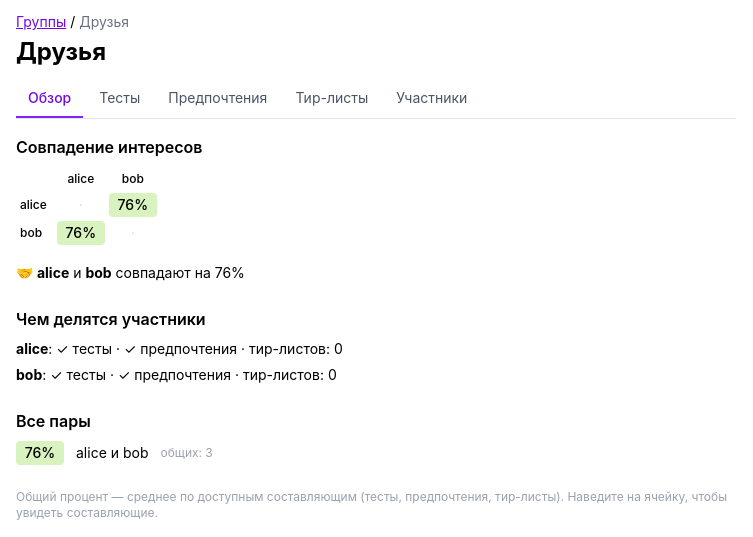
Test: GroupPage (дымовая проверка) › обычный участник: может выйти, но не приглашать и не удалять
Click the button "Участники": (432, 99) [384,80,479,118]
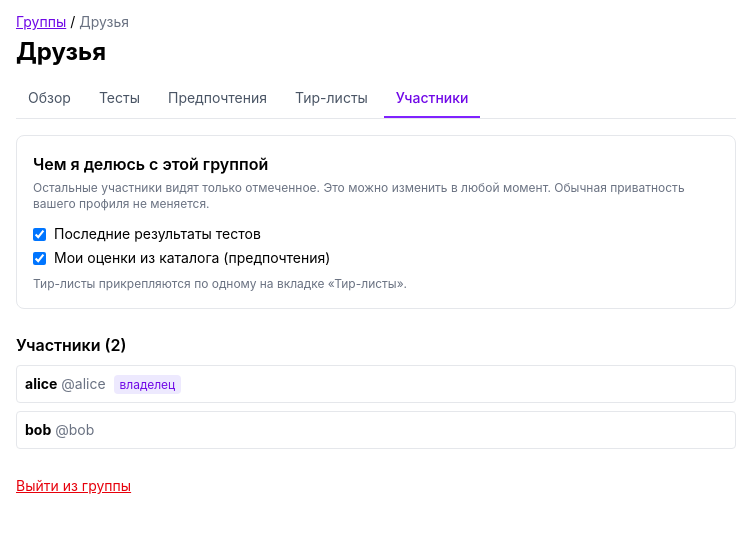
Check: the button "Выйти из группы" is shown, box [16,476,131,496]
